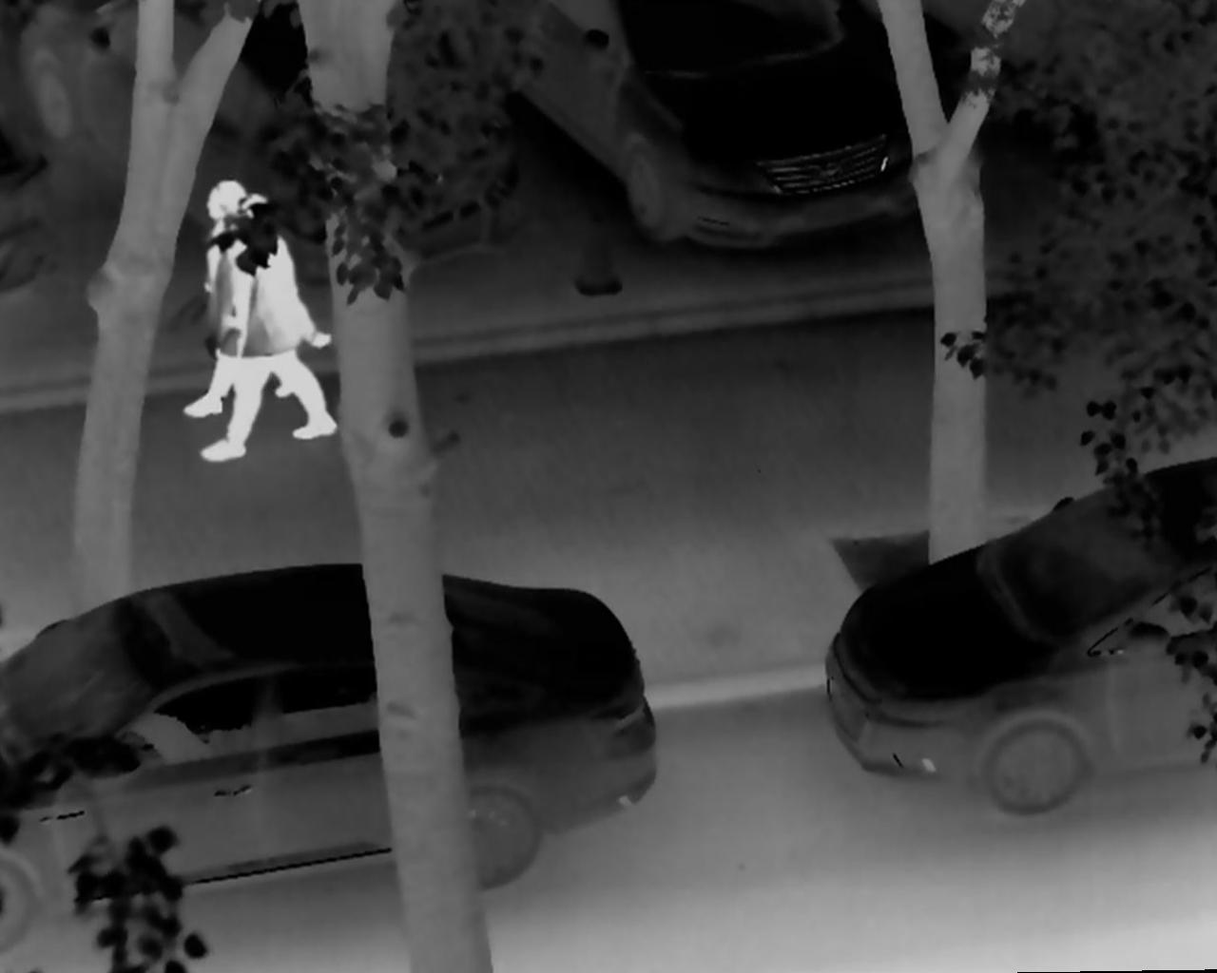person: (198, 192, 342, 465), (182, 168, 298, 421)
